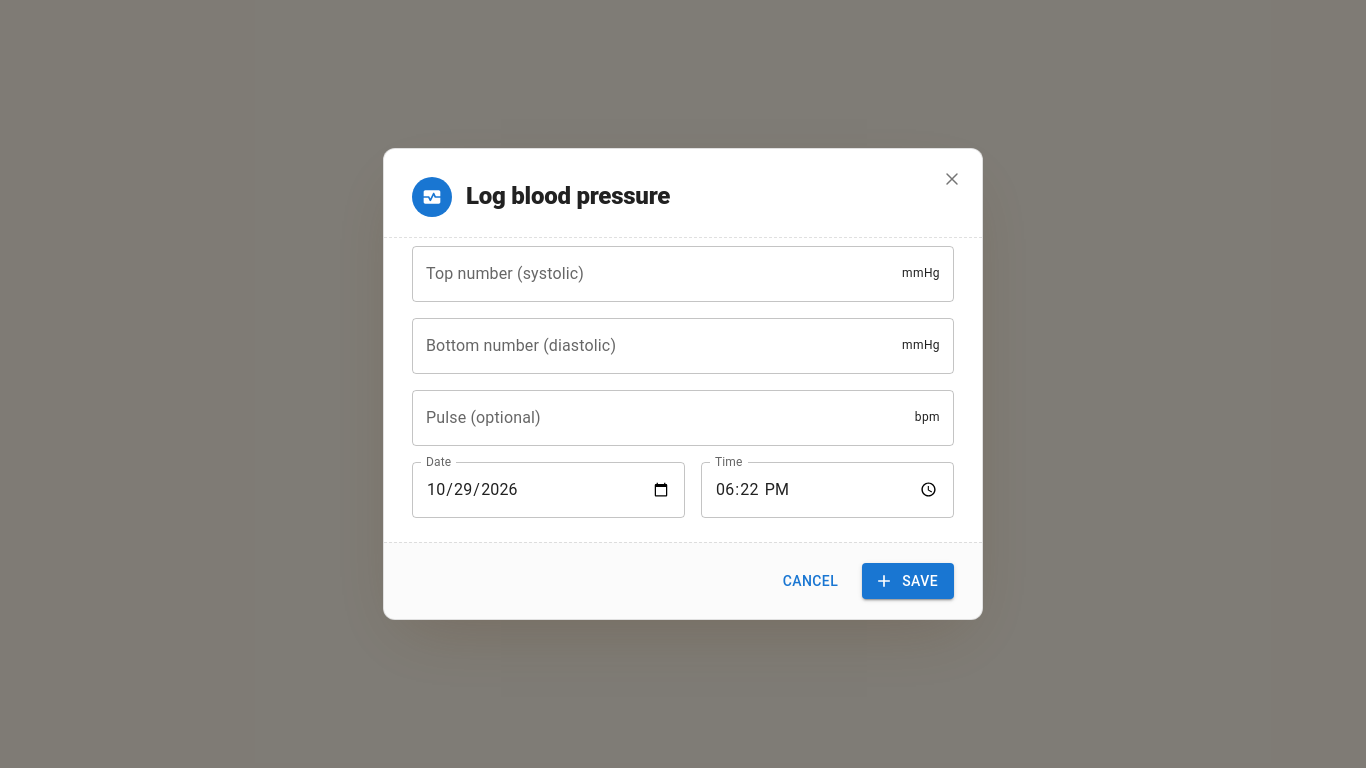
Test: AddBPDialog — a duplicate minute › never shows raw error text
The image size is (1366, 768).
Type "128" into the number field labelled "Top number (systolic)" at point(657, 274), box [412,246,902,302]
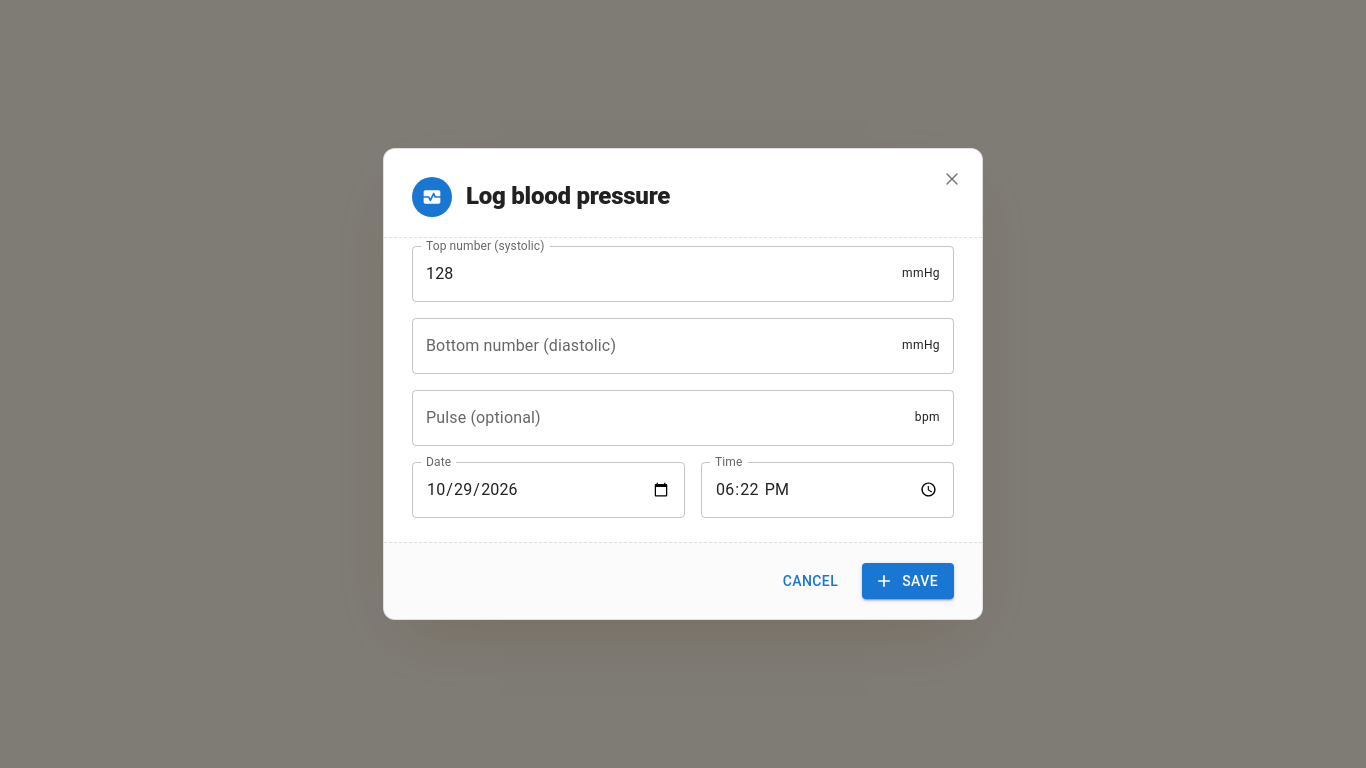
Type "82" into the number field labelled "Bottom number (diastolic)" at point(657, 346), box [412,318,902,374]
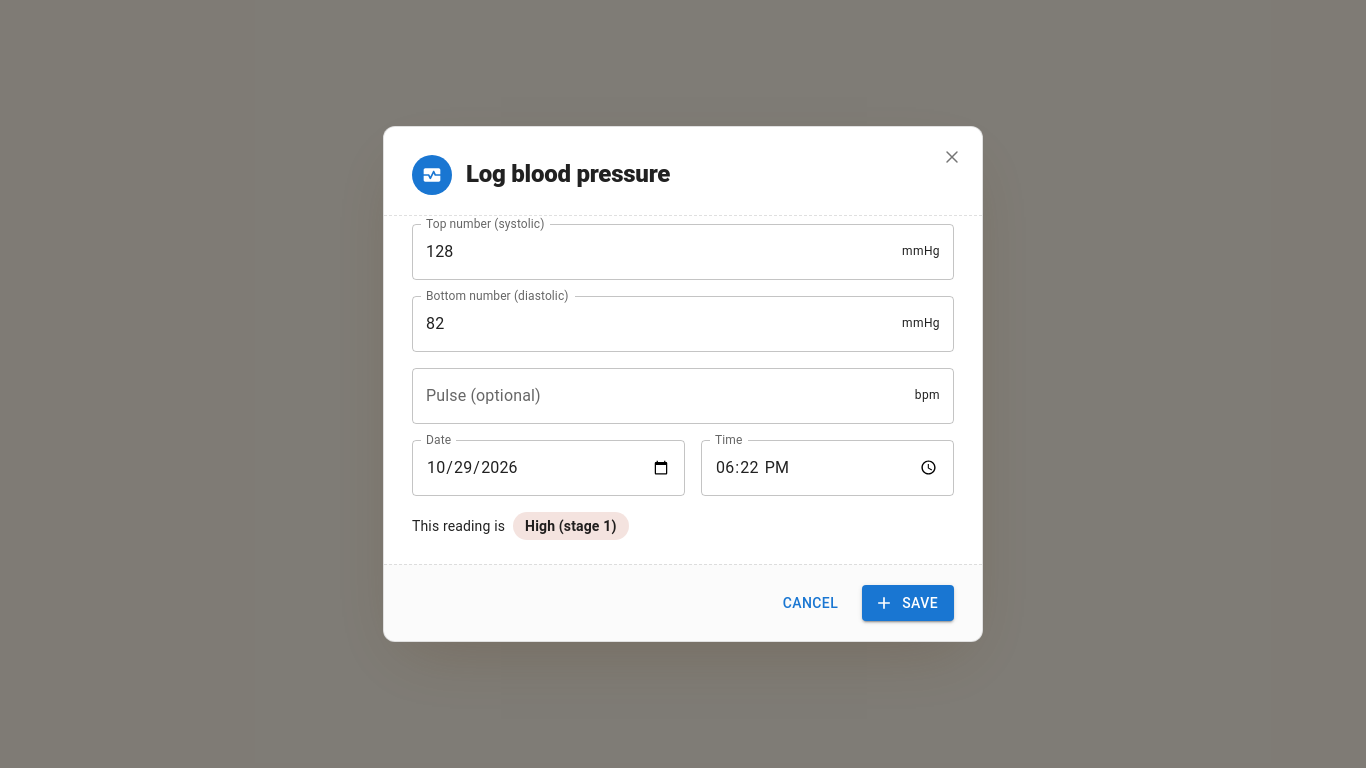
Click the button "Save" at point(908, 603), box [862,585,954,621]
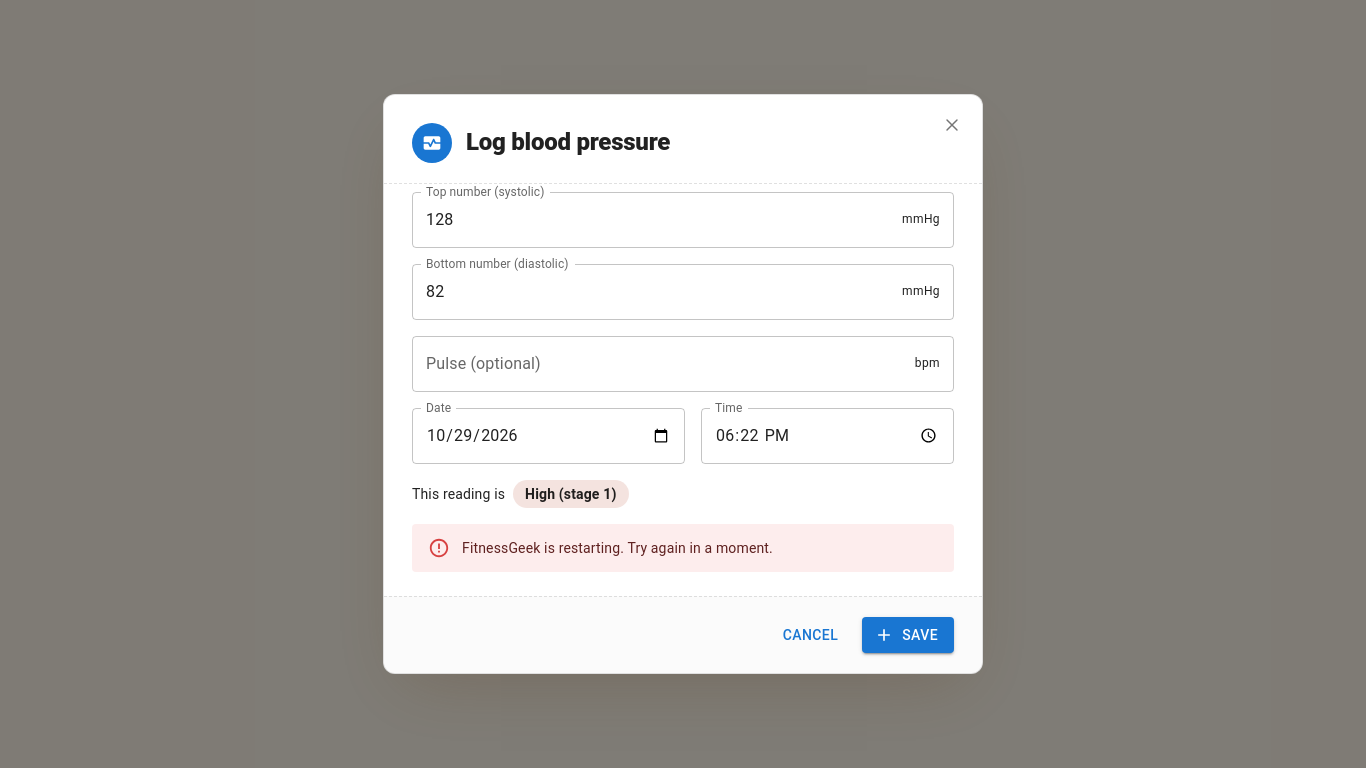
Expected: the text "FitnessGeek is restarting. Try again in a moment." is shown, [462,540,773,556]
